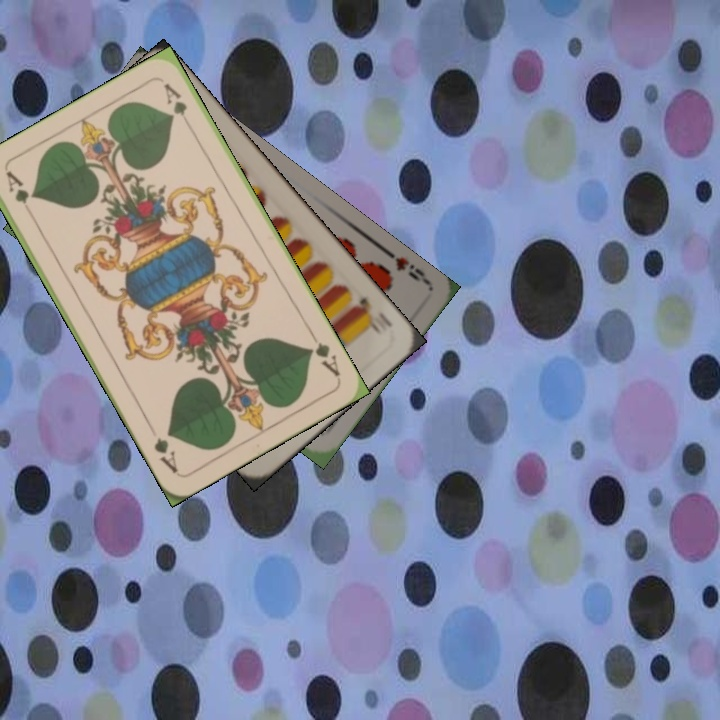E10: (350, 293, 395, 337)
GA: (1, 167, 38, 222), (304, 327, 343, 379)
H9: (380, 245, 431, 287)
